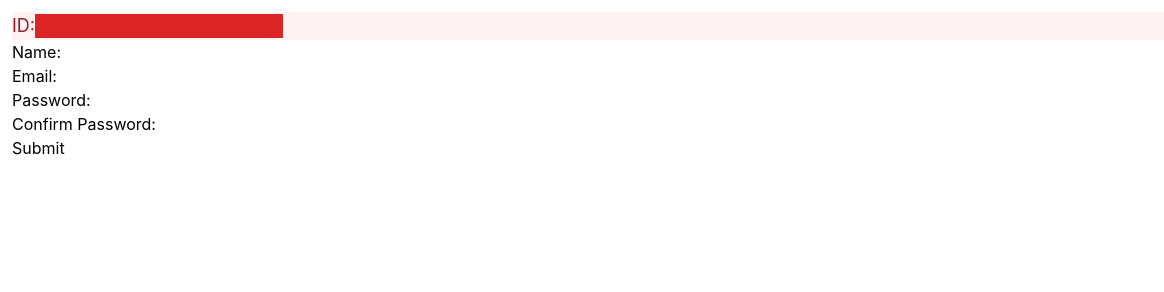
Test: SignupForm › validates email field
This screenshot has width=1164, height=292.
Type "invalid-email" into the field labelled "Email:" at (181, 76), box [57,64,305,88]
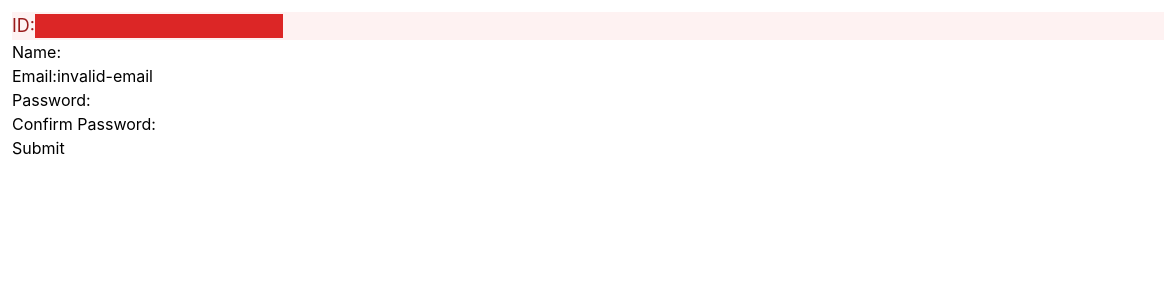
Click the button "Submit" at (38, 148), box [12,136,65,160]
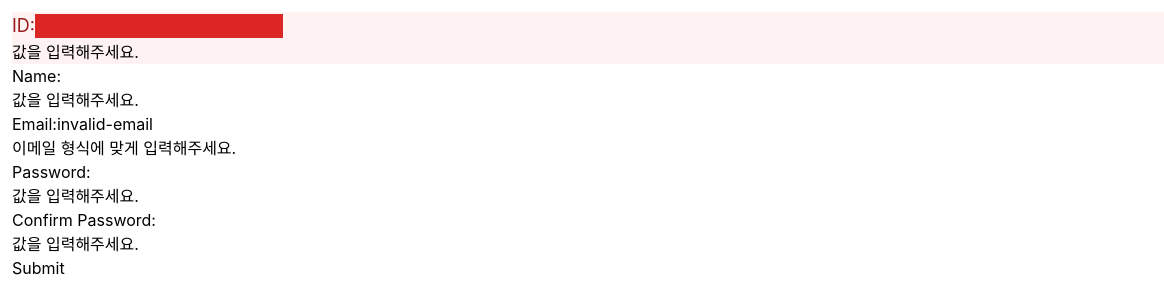
expect the text "이메일 형식에 맞게 입력해주세요." is shown: met, box [12,138,236,158]
